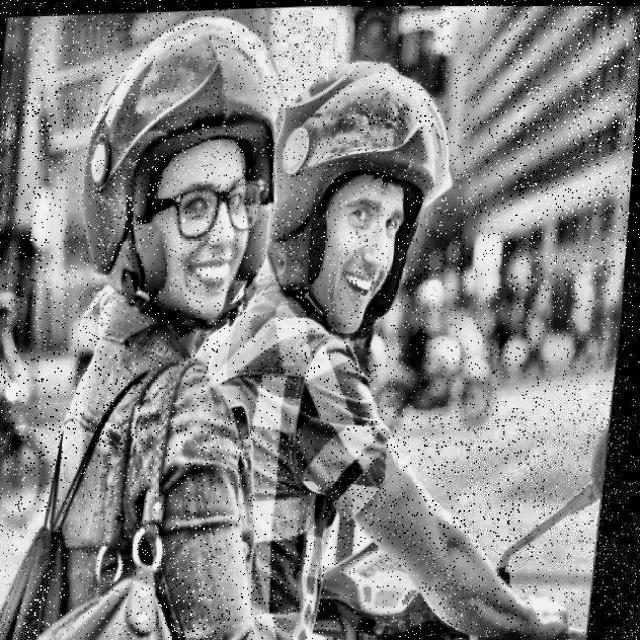Helmet: (63, 4, 302, 344), (256, 41, 472, 358)
